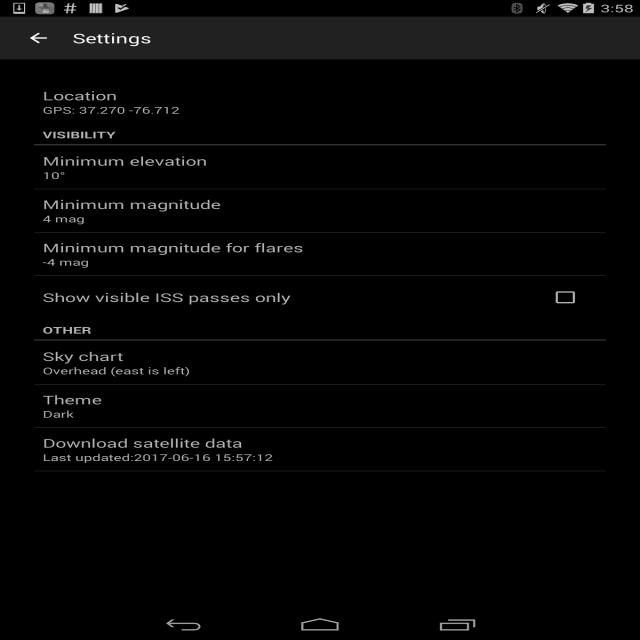CheckBox: (548, 285, 582, 308)
ImageButton: (24, 30, 53, 48)
TextView: (31, 430, 302, 467), (37, 346, 213, 379), (35, 289, 308, 310), (37, 188, 237, 216), (43, 91, 186, 127), (68, 28, 159, 46)
